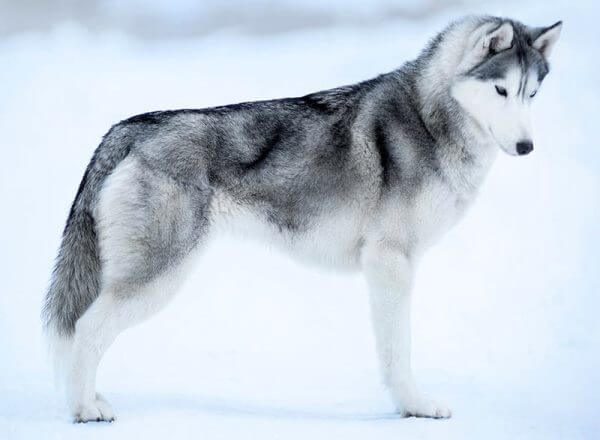husky: (42, 6, 583, 428)
